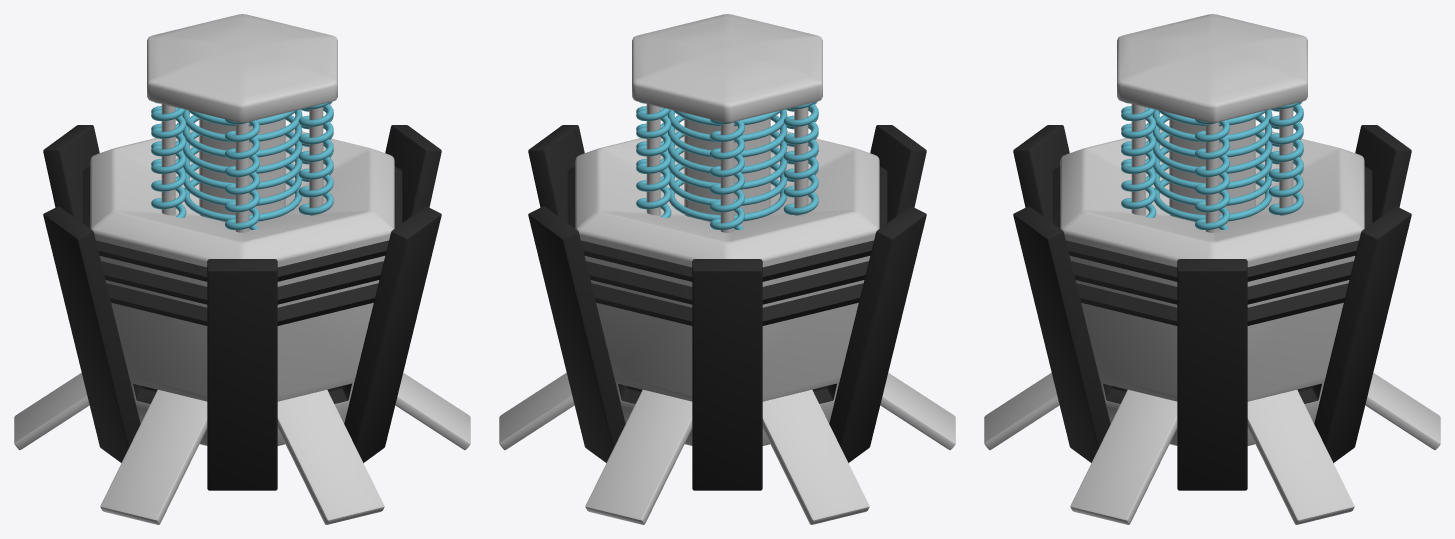
File: Power Generator.fbx
3 renders of one model, left to right at view 1: azimuth 30°, elevation 25°; view 2: azimuth 150°, elevation 25°; view 3: azimuth 270°, elevation 25°, orthographic.
Visible parts, largest first — view 1: Base, Black, Luminant; view 2: Base, Black, Luminant; view 3: Base, Black, Luminant.
Part boxes in pixels (x1,y1,x2,y2): Base: (14, 14, 470, 524); Black: (43, 125, 441, 490); Luminant: (151, 101, 333, 229); Base: (499, 14, 955, 524); Black: (528, 125, 926, 490); Luminant: (636, 101, 818, 229); Base: (984, 14, 1440, 524); Black: (1013, 125, 1411, 490); Luminant: (1121, 101, 1303, 229).
Bounding box in the file's own units: 121 × 121 × 129.
